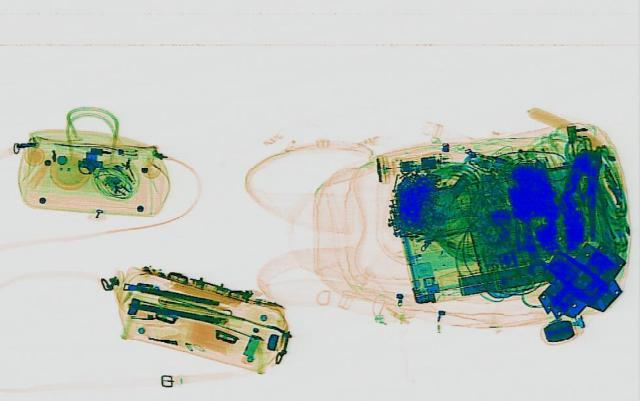Pliers: (546, 147, 612, 240)
Wrench: (511, 217, 555, 277)
